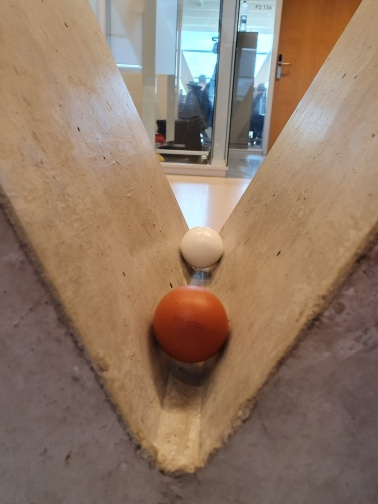egg: (153, 284, 228, 364), (180, 226, 224, 272)
